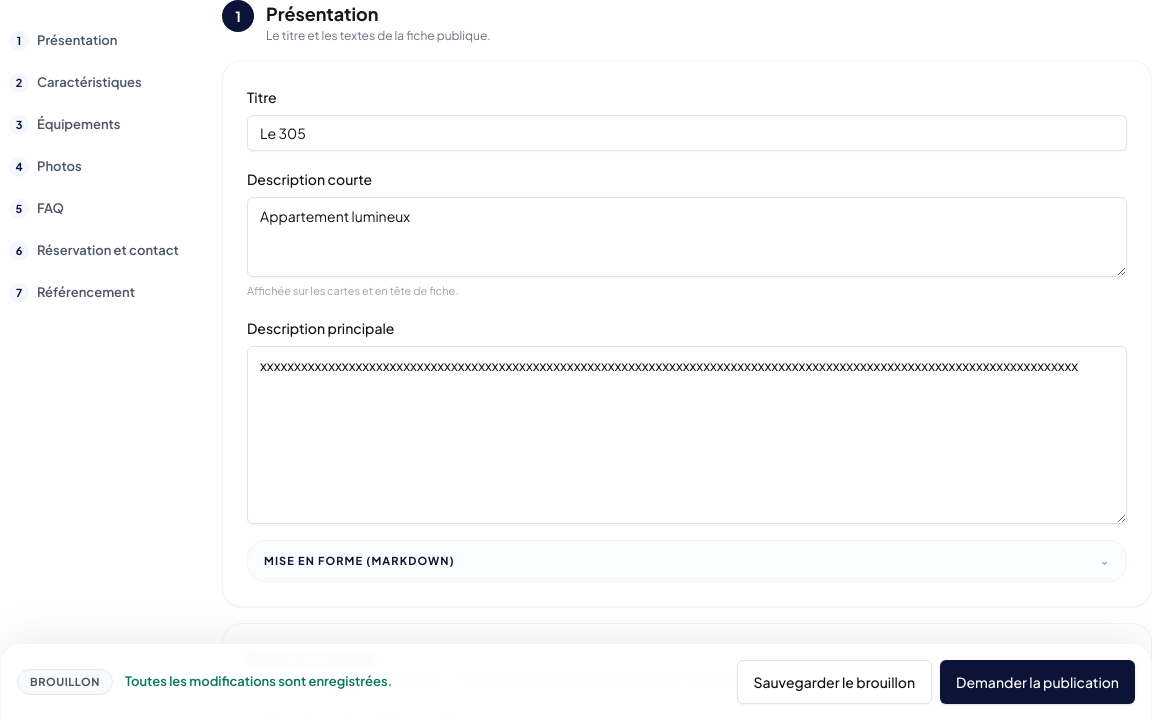
Scenario: 083 — page Logement : erreurs sous les champs › AC-02-01 / AC-02-02 : champs manquants à la publication signalés puis effacés à la correction
The width and height of the screenshot is (1152, 720).
Click the button "Demander la publication": (1038, 682) [940,660,1135,704]
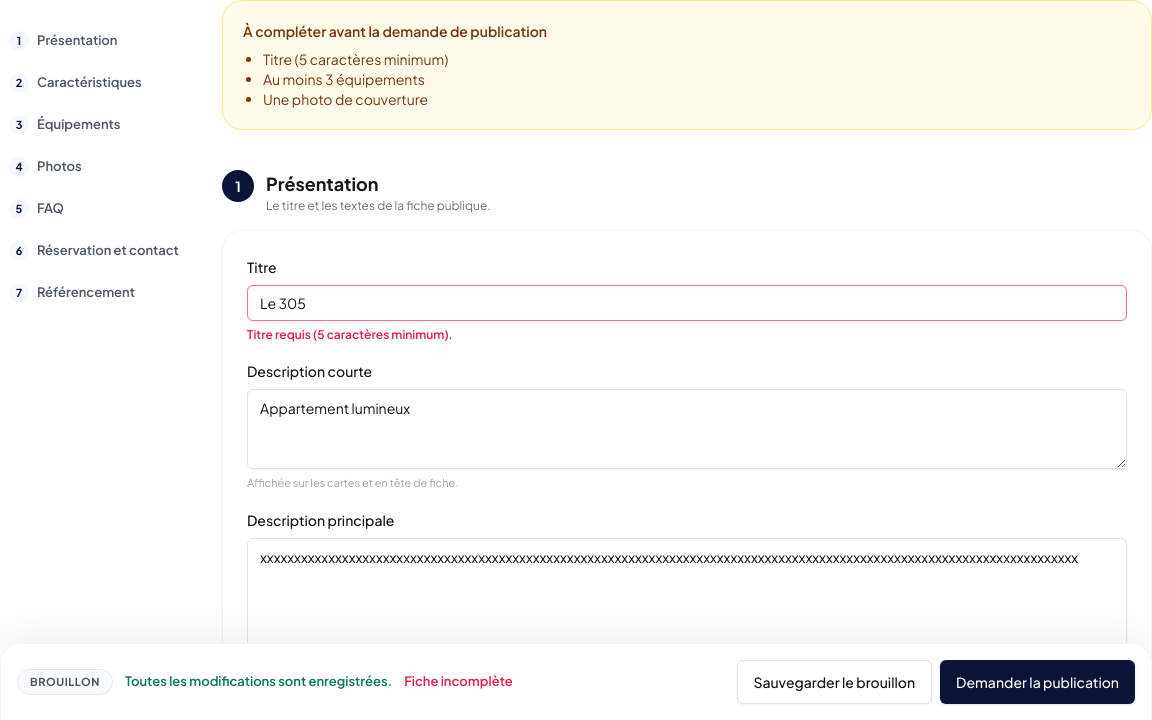
Expected: the text "Titre requis (5 caractères minimum)." is shown, [247,327,453,342]
Replace the text in the field labelled "Titre" with "Le 305 rénové": (687, 303) [247,285,1127,321]
(page scrolled)
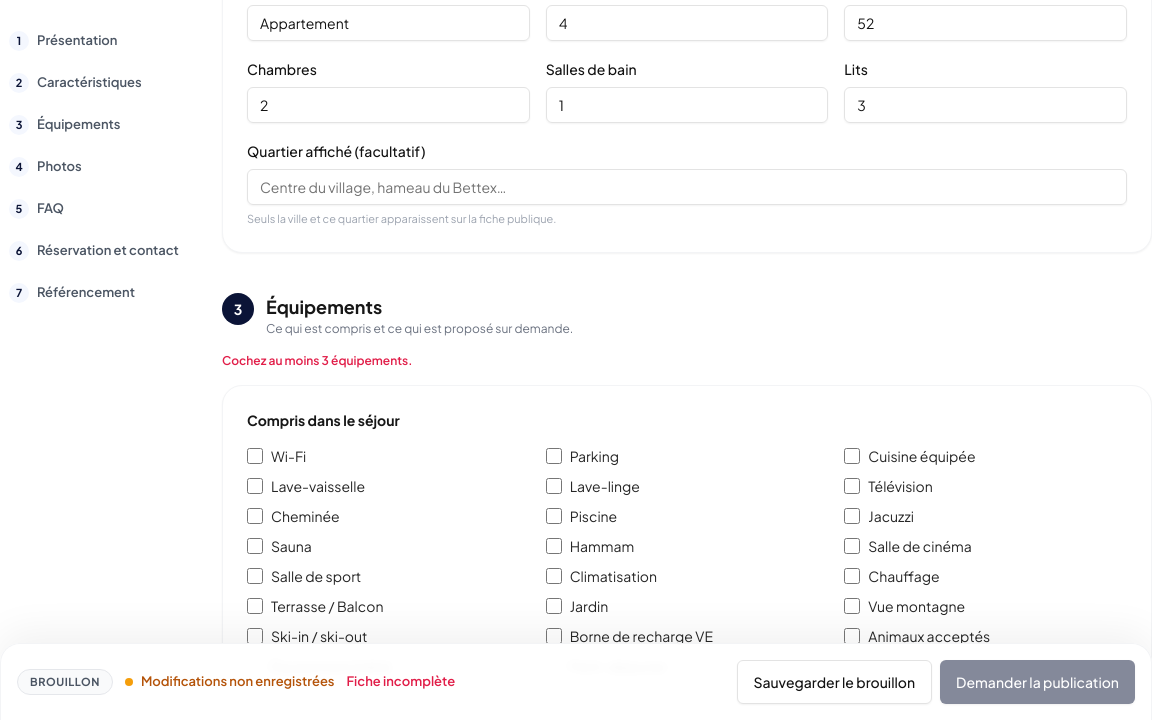
Expected: the text "Cochez au moins 3 équipements." is shown, [222,352,412,368]
Expected: the text "Titre requis (5 caractères minimum)." is gone
